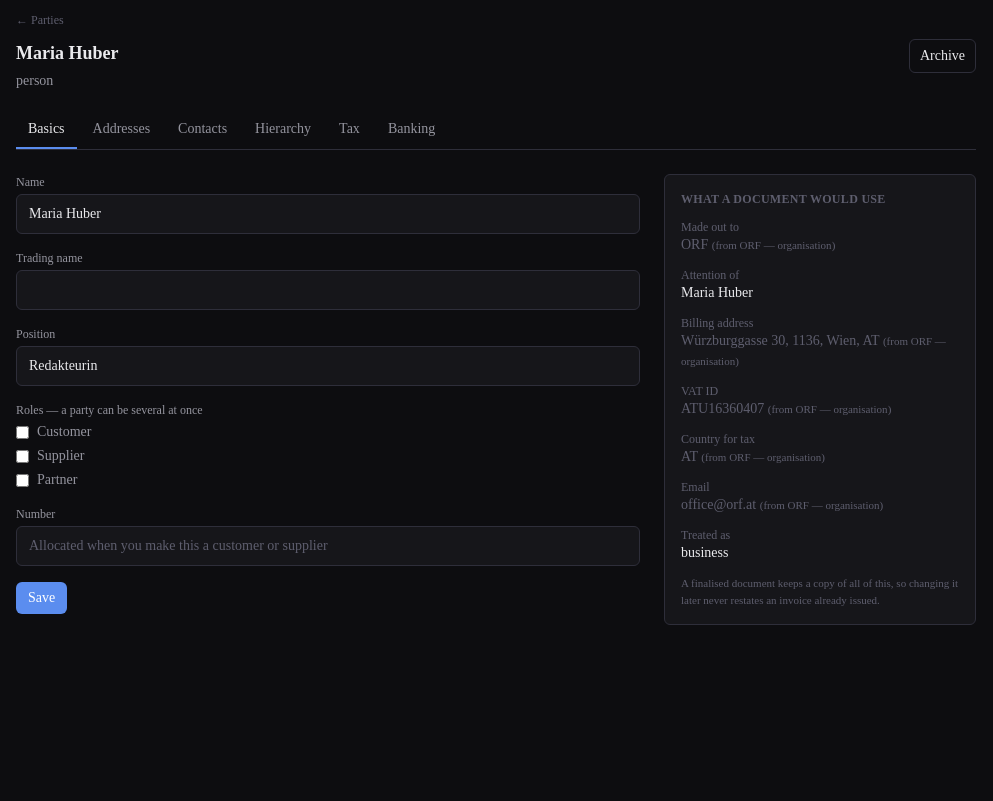
it: the Tax tab shows what the server decided › shows the derived buyer type with its reason in words
Step 1. Click the tab "Tax" → x=350, y=130, box left=327, top=111, right=372, bottom=149
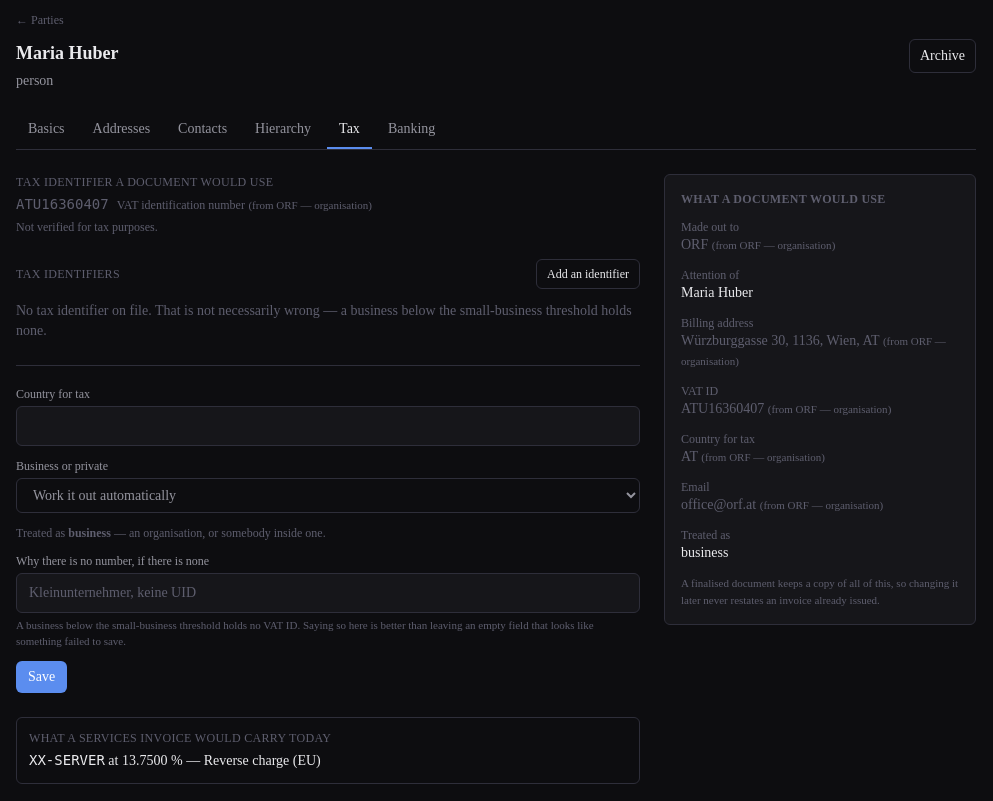
Check: the element with test id "party-buyer-type" shows "business", box left=68, top=526, right=111, bottom=540
Check: the element with test id "party-buyer-type" shows "an organisation, or somebody inside one", box left=129, top=526, right=323, bottom=540
